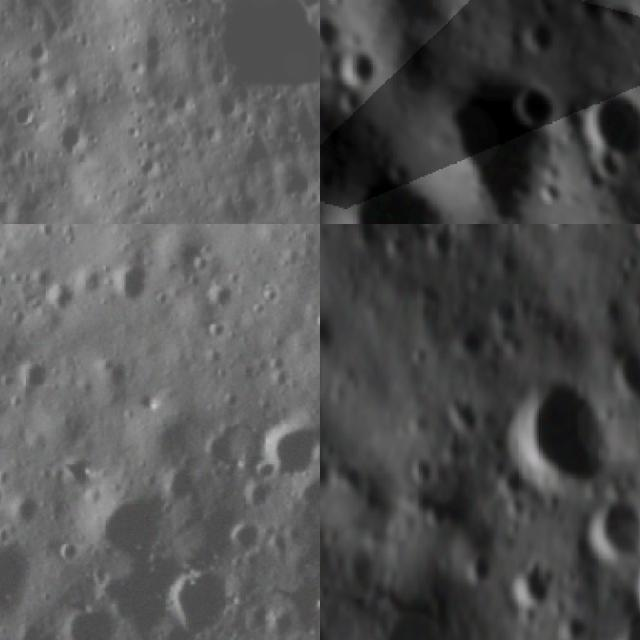crater: (401, 35, 606, 224), (320, 135, 489, 224), (504, 370, 618, 490), (212, 0, 320, 98), (78, 474, 179, 568), (562, 67, 640, 184), (164, 556, 258, 640), (90, 556, 182, 639), (0, 527, 47, 640), (503, 70, 574, 142), (363, 588, 461, 640), (573, 487, 640, 561), (254, 407, 320, 481), (327, 35, 392, 99), (98, 254, 156, 318), (582, 140, 637, 195), (502, 556, 555, 612), (60, 600, 129, 640), (514, 14, 566, 64), (196, 268, 241, 324), (9, 353, 57, 401), (533, 171, 580, 218), (441, 390, 488, 436), (222, 517, 272, 560), (320, 7, 356, 64), (596, 0, 640, 44), (277, 161, 320, 206), (56, 112, 93, 164), (612, 337, 640, 401), (450, 313, 487, 361), (456, 544, 492, 593), (329, 82, 370, 124), (405, 451, 440, 488), (320, 441, 341, 495), (7, 92, 38, 128), (23, 34, 49, 63), (20, 59, 47, 85), (310, 96, 320, 145), (0, 476, 9, 523), (540, 224, 575, 232), (625, 224, 640, 241), (410, 224, 449, 226)
